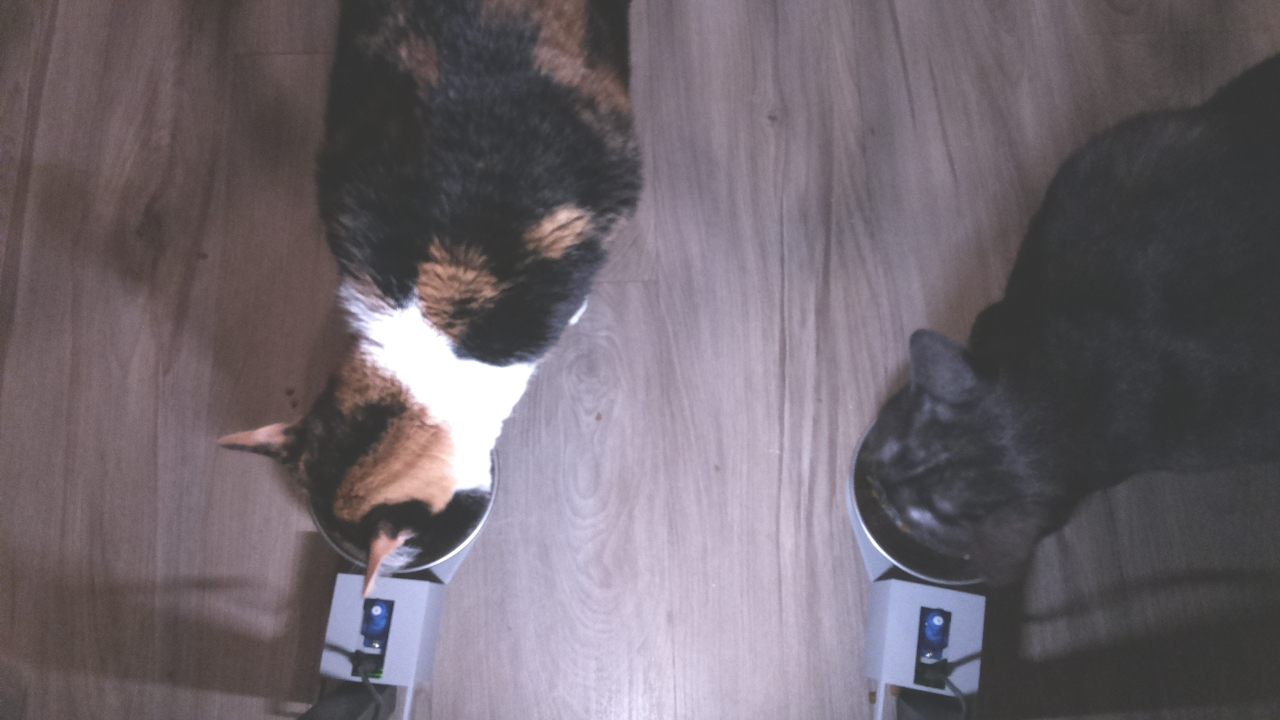bella_eating: (207, 306, 533, 601)
saki_eating: (848, 322, 1105, 587)
